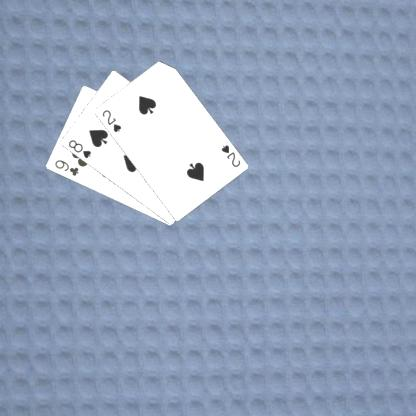2S: (99, 107, 123, 134), (218, 142, 241, 168)
8S: (66, 137, 92, 160)
9C: (52, 157, 80, 177)
